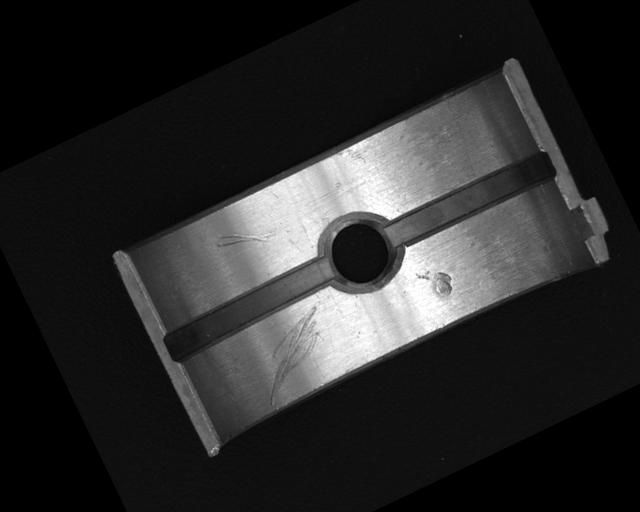bruise: (415, 260, 457, 304)
gap: (160, 252, 341, 364), (380, 147, 557, 253)
hole: (312, 202, 409, 300)
nick: (241, 304, 347, 406), (213, 215, 276, 264)
